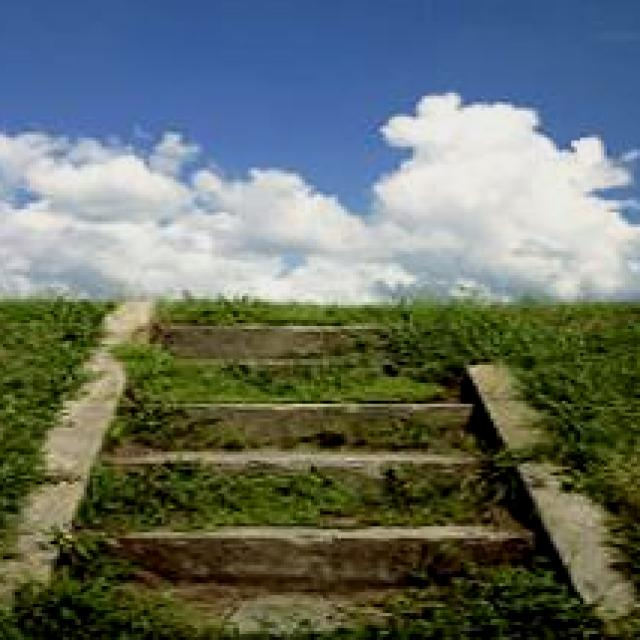upstair: (124, 306, 477, 593)
